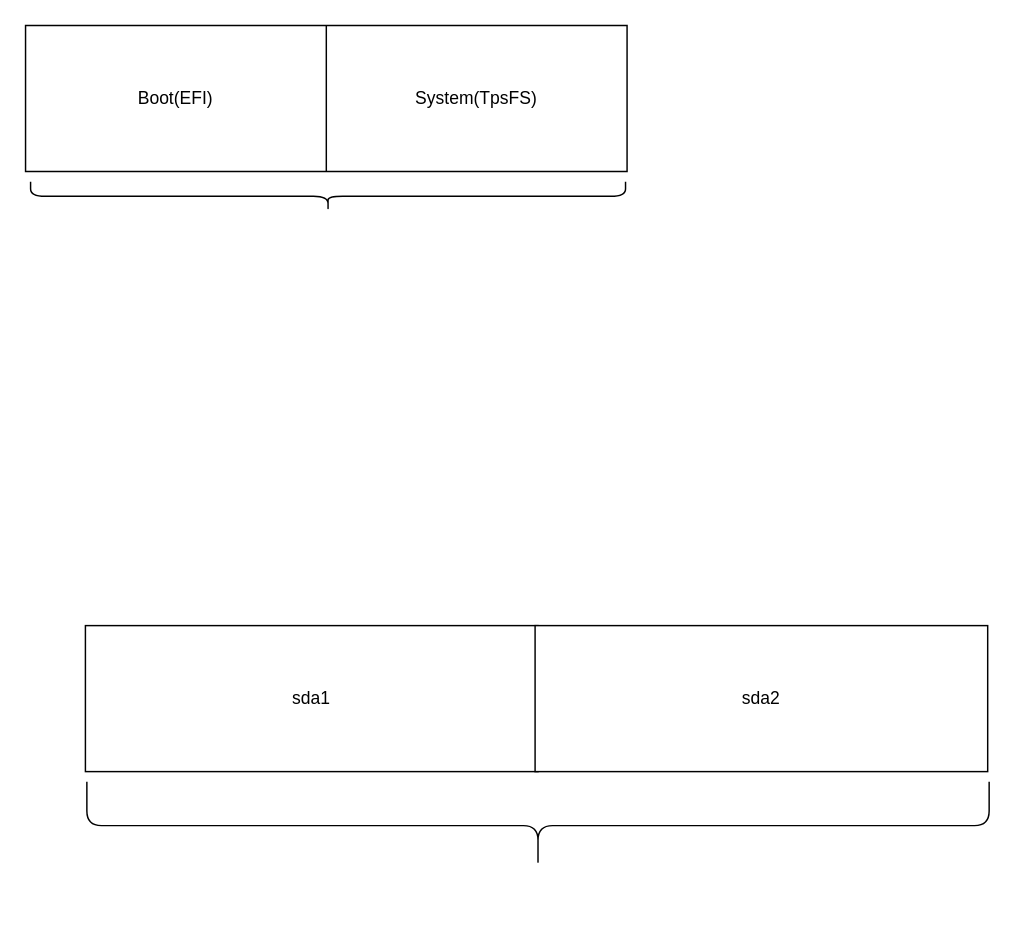
This 1015x927 diagram has some shape labels left out. The centre of each missing label's shape, as x and y in pixels:
硬盘分区(sda): (x=537, y=824)
虚拟硬盘分区: (x=327, y=195)
